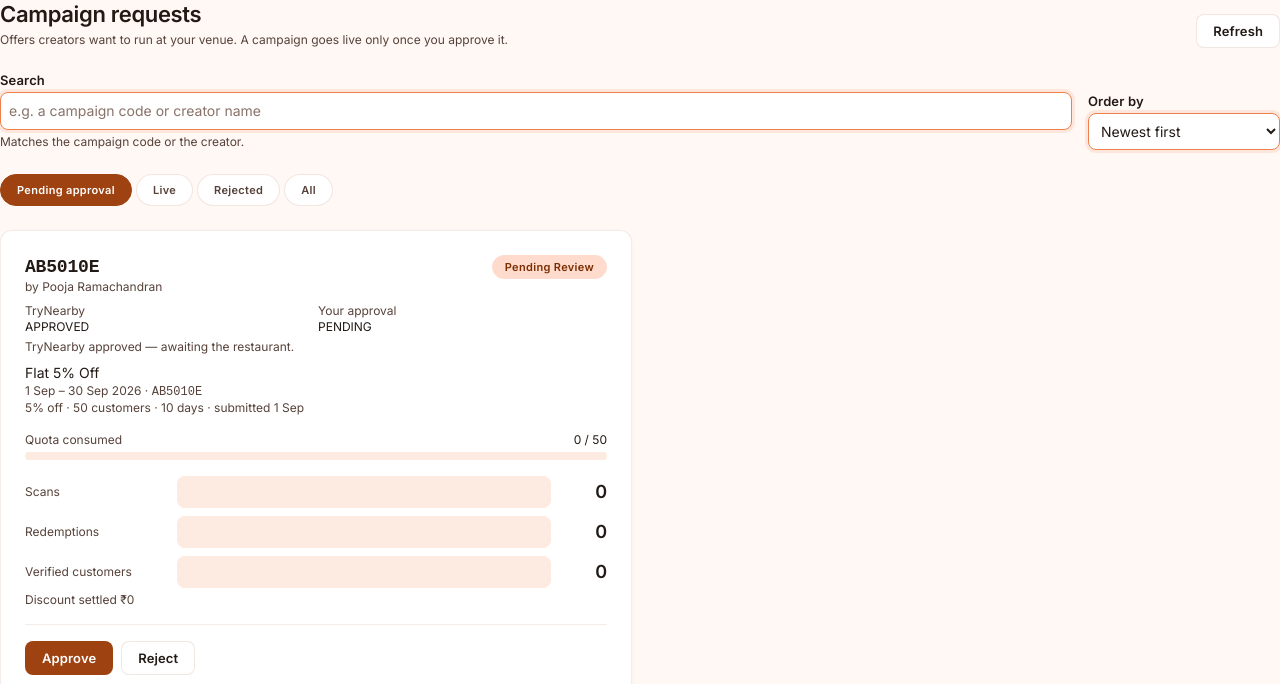
RestaurantCampaigns › requires a rejection reason before it will send one
The width and height of the screenshot is (1280, 684).
Click the button "Reject" at {"x": 158, "y": 658}, box x1=121 y1=641 x2=195 y2=675
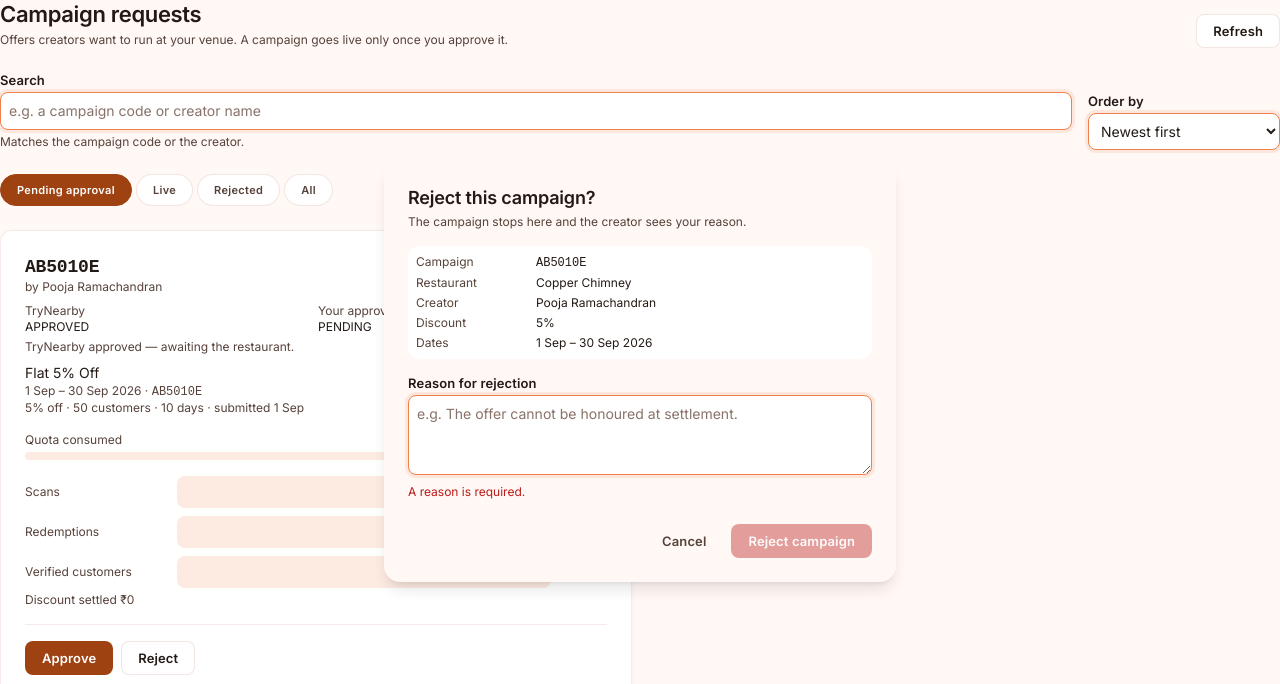
Expected: the button "Reject campaign" is disabled, x1=732 y1=524 x2=872 y2=558
Type "Peak hours only." into the text box labelled "Reason for rejection" at {"x": 640, "y": 435}, box x1=408 y1=395 x2=872 y2=475
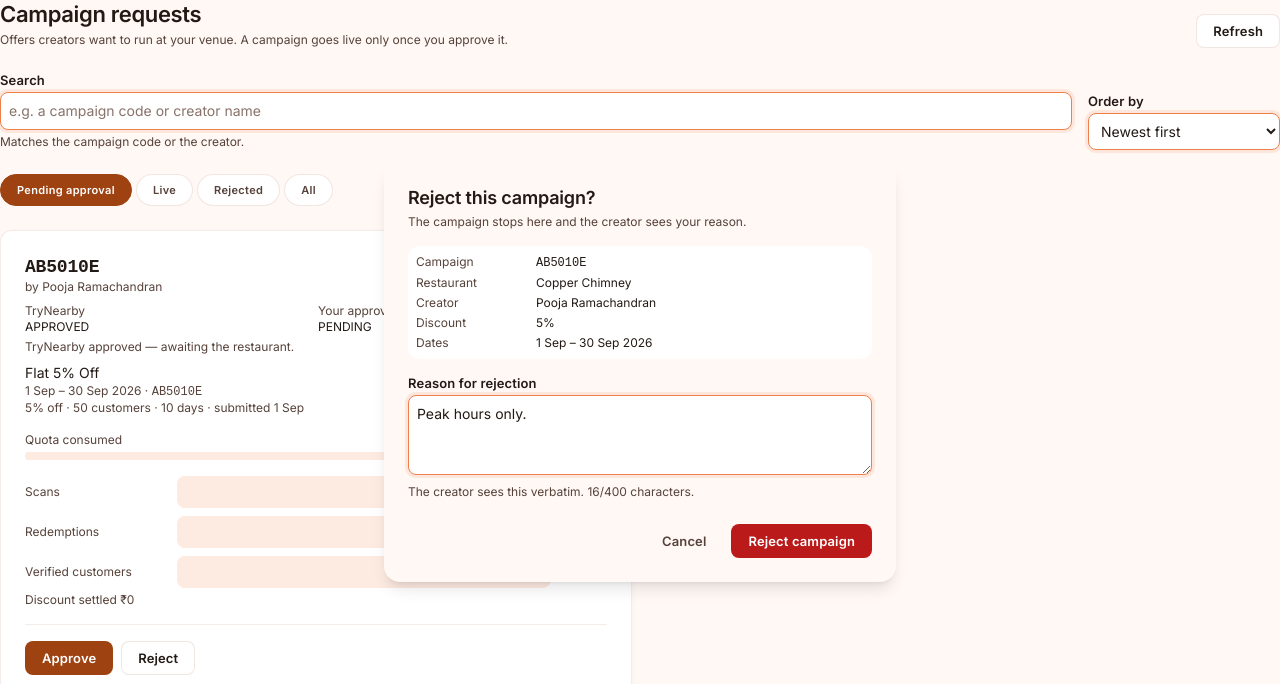
Click the button "Reject campaign" at {"x": 802, "y": 541}, box x1=732 y1=524 x2=872 y2=558
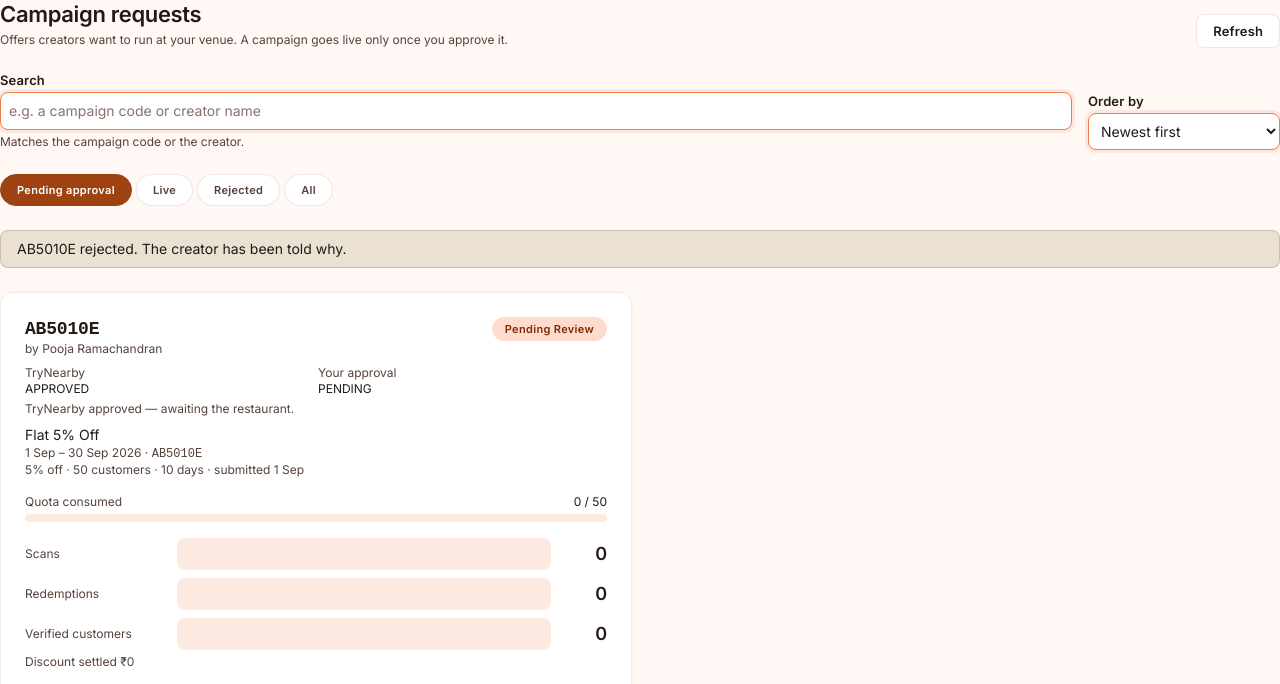
Expected: the text "AB5010E rejected. The creator has been told why." is shown, x1=0 y1=230 x2=1279 y2=268
